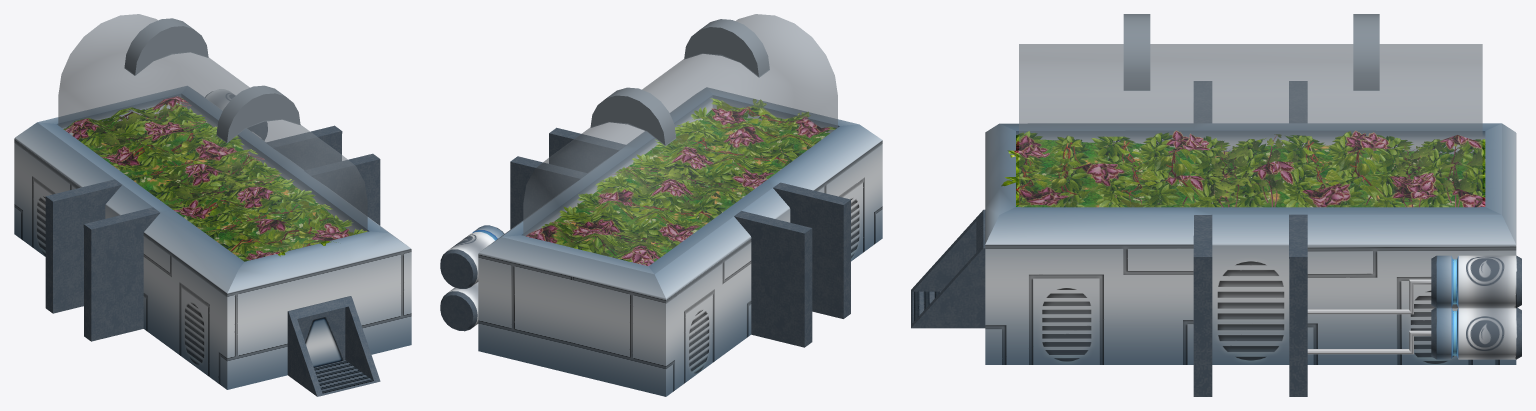
Rendered from Green House.fbx.
The picture shows the model from 3 angles, left to right: view 1: azimuth 30°, elevation 25°; view 2: azimuth 150°, elevation 25°; view 3: azimuth 270°, elevation 25°; orthographic projection. The views are drawn at different scales.
Visible parts, largest first — view 1: Base, Glass, Plants, Soil, Cap_2, Cap_1, Tank_1; view 2: Base, Glass, Plants, Soil, Cap_2, Cap_1, Tank_1, Tank_3; view 3: Base, Glass, Plants, Soil, Tank_1, Tank_3, Cap_1, Cap_2, Pipe_1, Pipe_2.
Part boxes in pixels (<box>): Base: <box>14,86,411,396</box>; Glass: <box>58,14,367,261</box>; Plants: <box>63,96,366,261</box>; Soil: <box>82,110,349,259</box>; Cap_2: <box>124,18,208,75</box>; Cap_1: <box>216,85,300,142</box>; Tank_1: <box>205,89,267,140</box>; Base: <box>478,87,882,396</box>; Glass: <box>523,14,837,265</box>; Plants: <box>526,98,836,265</box>; Soil: <box>552,110,829,261</box>; Cap_2: <box>590,87,676,146</box>; Cap_1: <box>684,19,769,77</box>; Tank_1: <box>440,225,504,288</box>; Tank_3: <box>440,282,478,331</box>; Base: <box>911,81,1516,396</box>; Glass: <box>1019,44,1482,206</box>; Plants: <box>1001,130,1485,207</box>; Soil: <box>1016,139,1485,207</box>; Tank_1: <box>1431,255,1521,308</box>; Tank_3: <box>1431,308,1521,359</box>; Cap_1: <box>1123,14,1150,90</box>; Cap_2: <box>1353,14,1379,90</box>; Pipe_1: <box>1307,279,1431,314</box>; Pipe_2: <box>1307,330,1431,354</box>.
Size of the model in its own units: 1.57 by 1.21 by 2.3.
